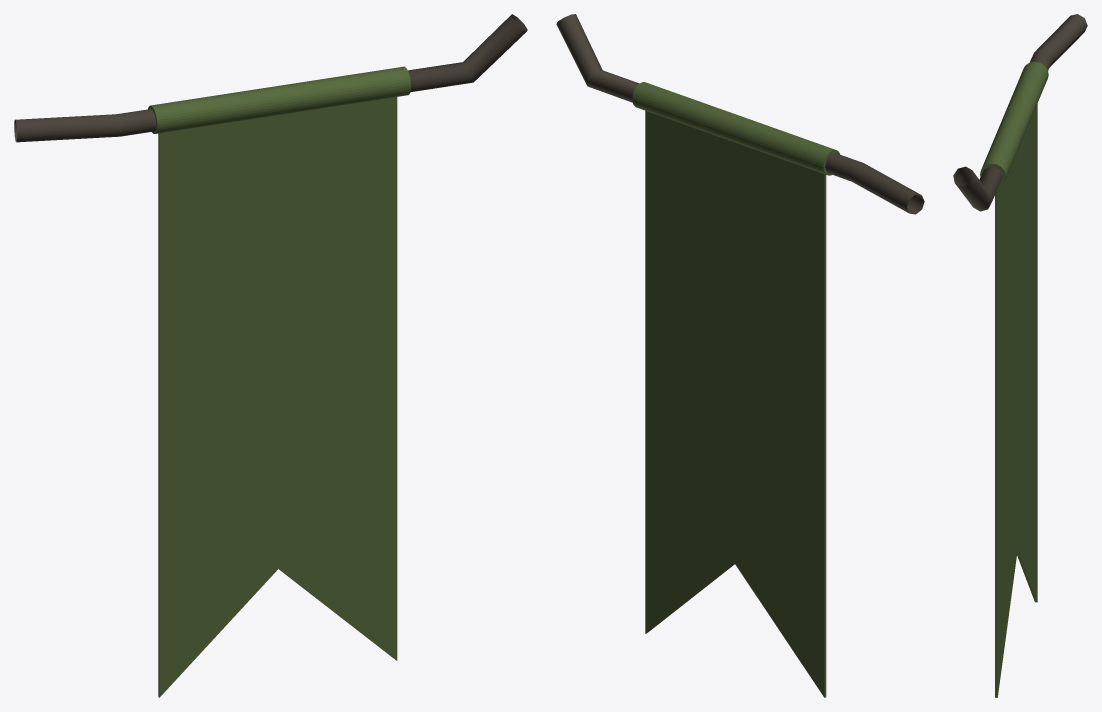
The model's file is flag.glb.
3 views of the same model, side by side, from view 1: azimuth 30°, elevation 25°; view 2: azimuth 150°, elevation 25°; view 3: azimuth 270°, elevation 25° (orthographic). The views are drawn at different scales.
Parts seen in each view (by area): view 1: Plane, Cylinder, Hanging Sign | Sign bracket | 001; view 2: Plane, Cylinder, Hanging Sign | Sign bracket | 001; view 3: Plane, Cylinder, Hanging Sign | Sign bracket | 001.
Boxes of the visible parts, bbox=[...] form: Plane: bbox=[158, 97, 397, 697]; Cylinder: bbox=[148, 66, 410, 133]; Hanging Sign | Sign bracket | 001: bbox=[14, 14, 527, 142]; Plane: bbox=[645, 111, 826, 697]; Cylinder: bbox=[632, 82, 839, 175]; Hanging Sign | Sign bracket | 001: bbox=[556, 14, 924, 214]; Plane: bbox=[995, 103, 1037, 697]; Cylinder: bbox=[980, 62, 1048, 186]; Hanging Sign | Sign bracket | 001: bbox=[953, 14, 1087, 211].
Size of the model in its own units: 1.52 by 2.03 by 0.431.
